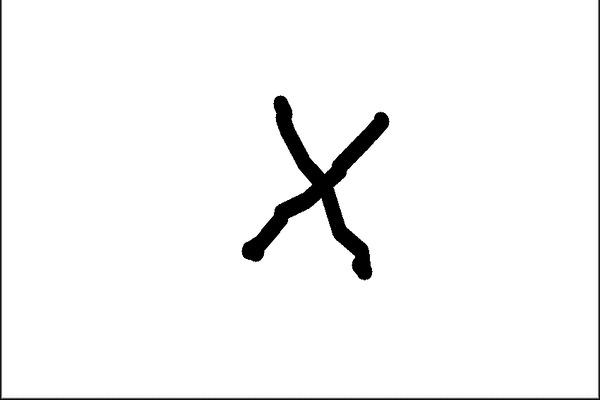X: (217, 85, 422, 305)
